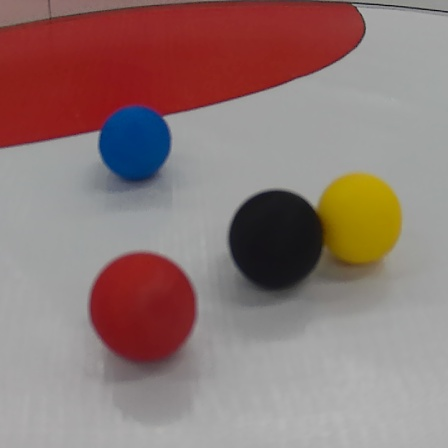blue: (100, 107, 171, 181)
red: (87, 252, 199, 363)
red_aim: (230, 187, 321, 287)
red_base: (0, 0, 377, 148)
yellow: (315, 172, 403, 264)
